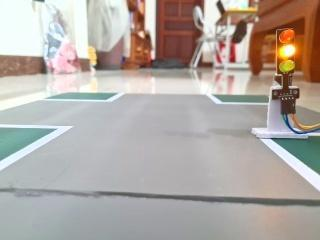yellow: (260, 18, 308, 82)
